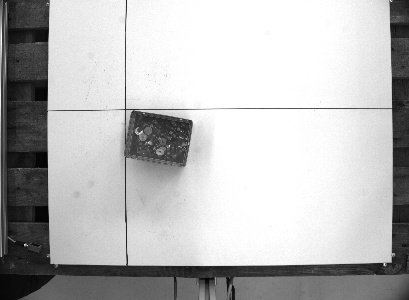klts: (122, 108, 194, 171)
